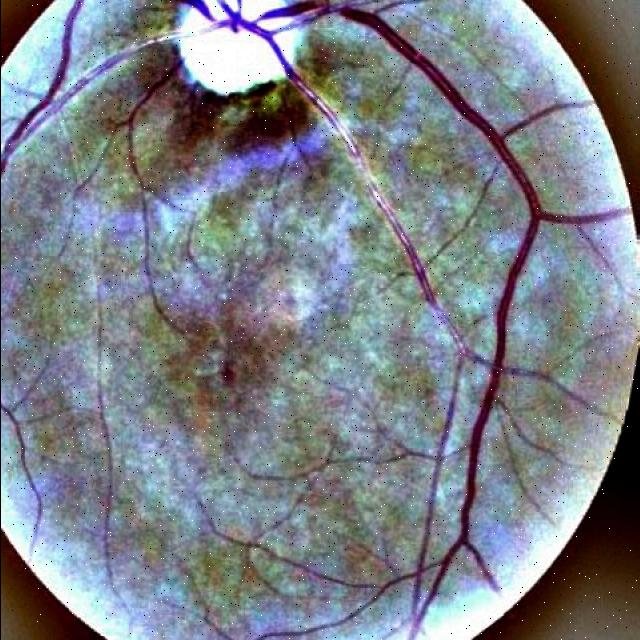Nerves: (176, 0, 620, 640), (0, 0, 180, 175), (273, 288, 305, 320)
Optic Disk: (172, 0, 299, 95)
